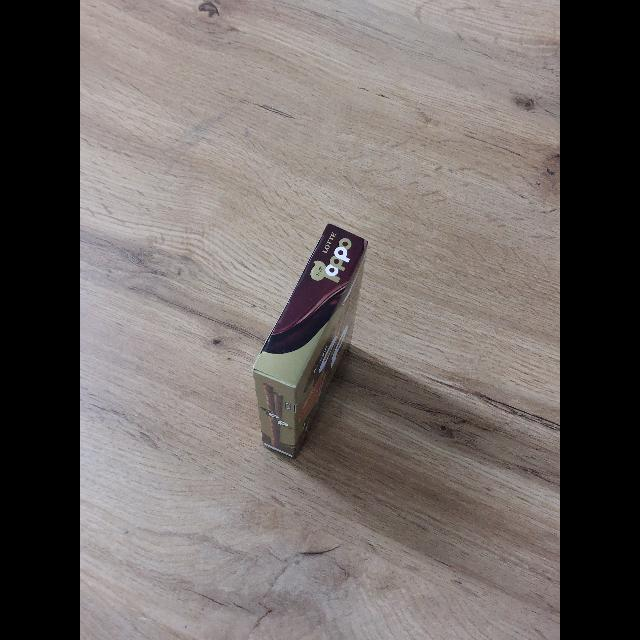banh_toppo_socola: (252, 224, 367, 462)
